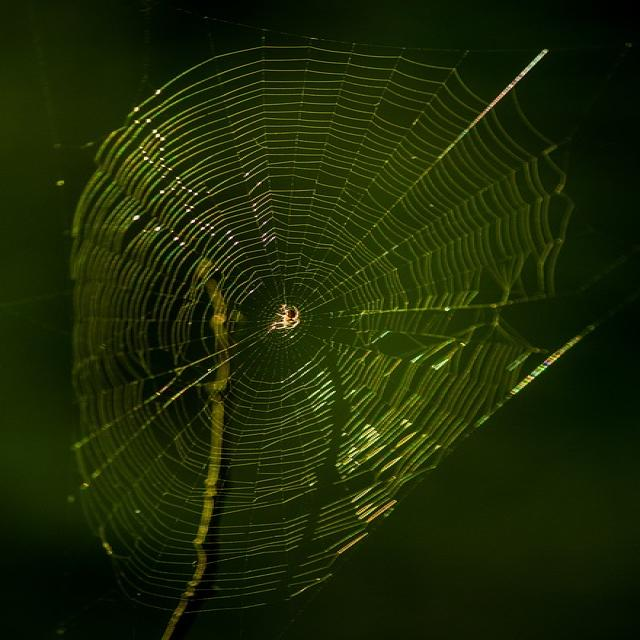spyder: (271, 306, 300, 331)
